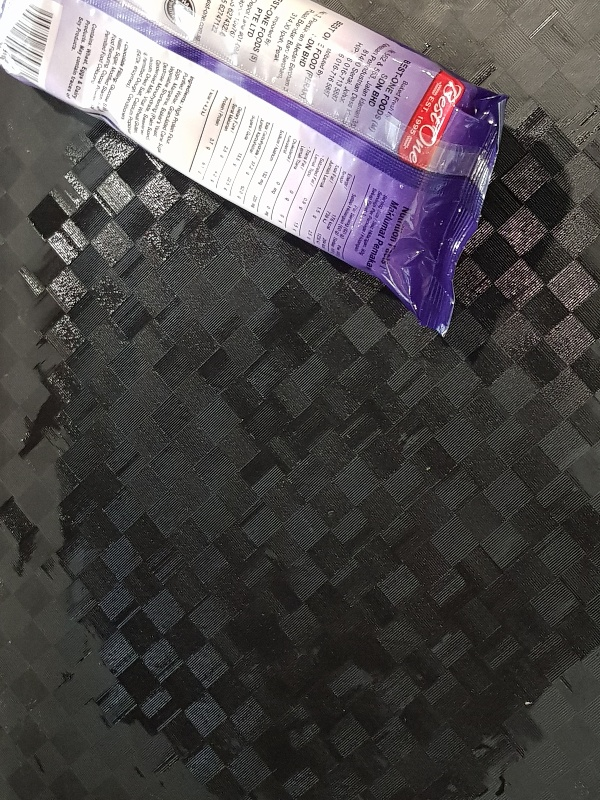Tinges Roll Chocolate: (1, 1, 510, 339)
